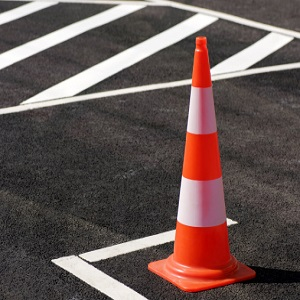traffic cone: (147, 36, 256, 292)
